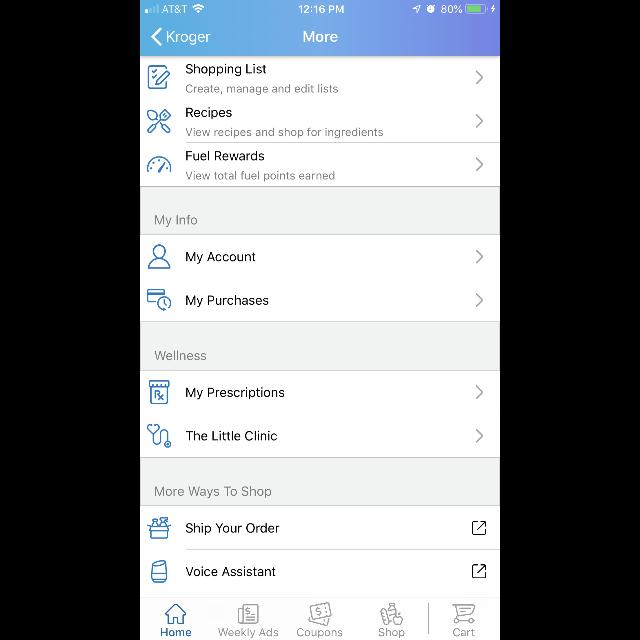icon: (308, 602, 332, 626), (148, 65, 170, 89), (148, 245, 170, 269), (147, 289, 171, 311), (452, 604, 476, 624), (166, 604, 187, 624), (238, 604, 258, 624), (472, 564, 486, 578), (472, 521, 486, 535), (152, 28, 162, 46), (476, 429, 482, 443), (476, 385, 482, 399), (476, 293, 482, 307), (476, 250, 482, 264), (476, 158, 482, 172), (476, 114, 482, 128), (476, 71, 482, 85)
image: (148, 109, 172, 133), (148, 424, 172, 448), (381, 602, 404, 626), (147, 517, 171, 539), (150, 380, 170, 404), (148, 156, 172, 172), (151, 560, 167, 582)
text: (185, 128, 382, 138), (186, 84, 338, 96), (186, 172, 334, 182), (155, 486, 271, 498), (187, 386, 285, 399), (186, 523, 280, 535), (187, 295, 269, 307), (186, 64, 266, 76), (186, 431, 278, 441), (186, 566, 276, 576), (187, 252, 256, 264), (186, 151, 264, 161), (167, 31, 211, 45), (218, 628, 278, 638), (186, 108, 232, 120), (154, 350, 206, 360), (155, 215, 197, 227), (297, 628, 343, 638), (304, 32, 338, 42), (379, 628, 405, 638), (160, 628, 192, 636), (453, 628, 475, 636)
uppertaskbar: (140, 0, 500, 14)
